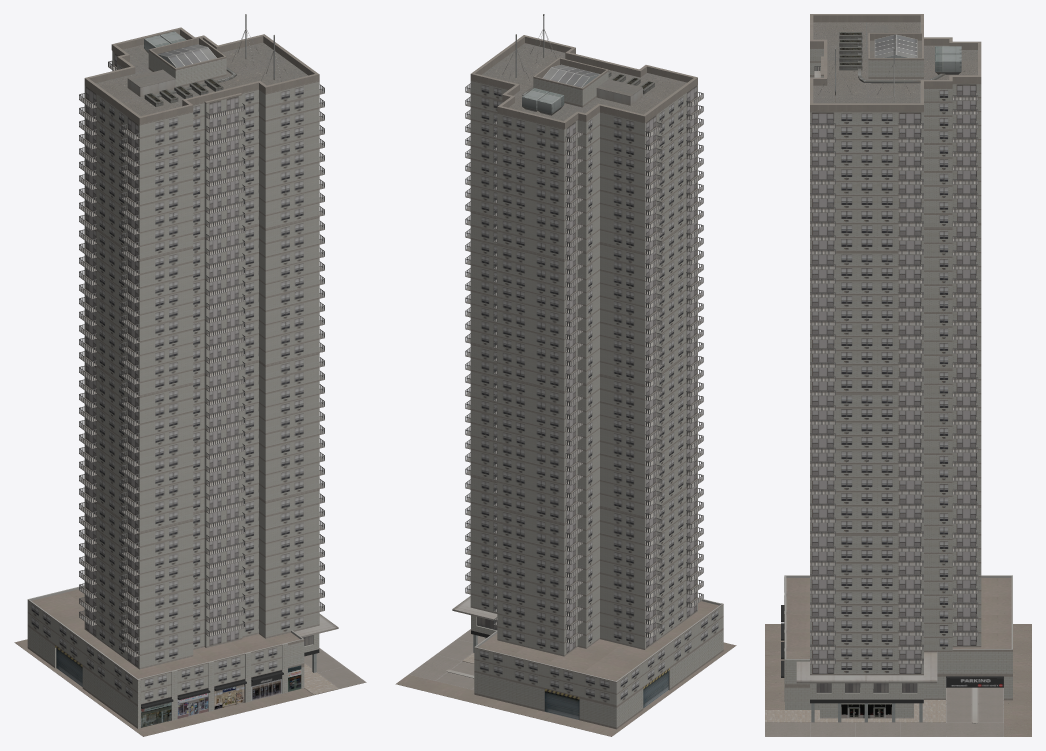
Rendered from building-skyscraper-a.glb.
3 renders of one model, left to right at view 1: azimuth 30°, elevation 25°; view 2: azimuth 150°, elevation 25°; view 3: azimuth 270°, elevation 25°, orthographic. The views are drawn at different scales.
Parts seen in each view (by area): view 1: hirise1; view 2: hirise1; view 3: hirise1.
Part boxes in pixels (x1,y1,x2,y2): hirise1: (14,14,366,736); hirise1: (395,14,736,736); hirise1: (765,14,1031,736).
Bounding box in the file's own units: 1.24 × 3.38 × 1.24.
1 material, 1 textured.
